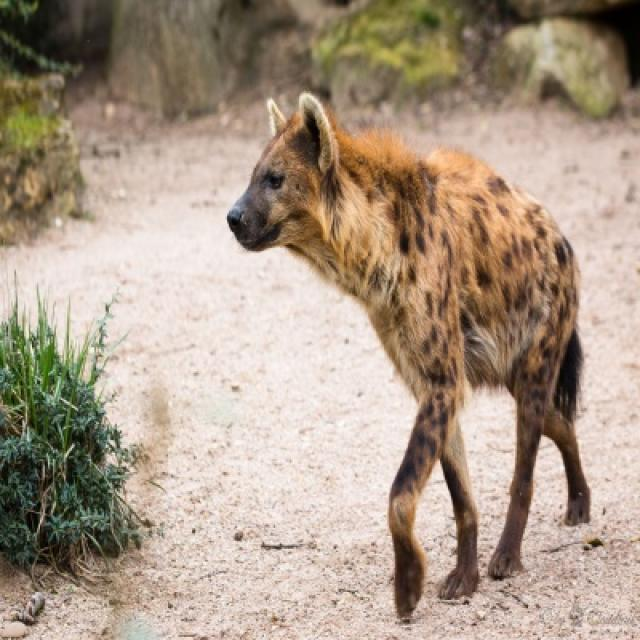hyena: (224, 93, 594, 626)
